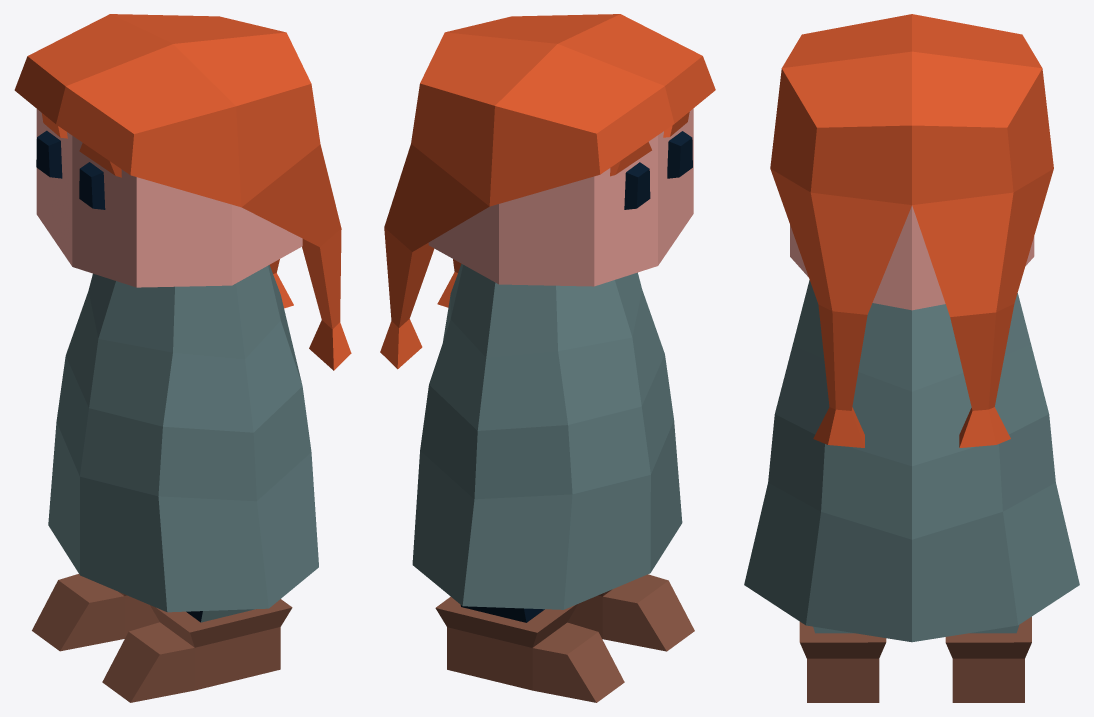
File: SK_Lionet.fbx
The picture shows the model from 3 angles, left to right: view 1: azimuth 30°, elevation 25°; view 2: azimuth 150°, elevation 25°; view 3: azimuth 270°, elevation 25°; orthographic projection. The views are drawn at different scales.
Visible parts, largest first — view 1: SK_Lionet; view 2: SK_Lionet; view 3: SK_Lionet.
Boxes of the visible parts, <box> form: SK_Lionet: <box>14,14,351,702</box>; SK_Lionet: <box>380,14,715,702</box>; SK_Lionet: <box>744,14,1079,702</box>.
Bounding box in the file's own units: 47.41 × 105 × 51.08.
